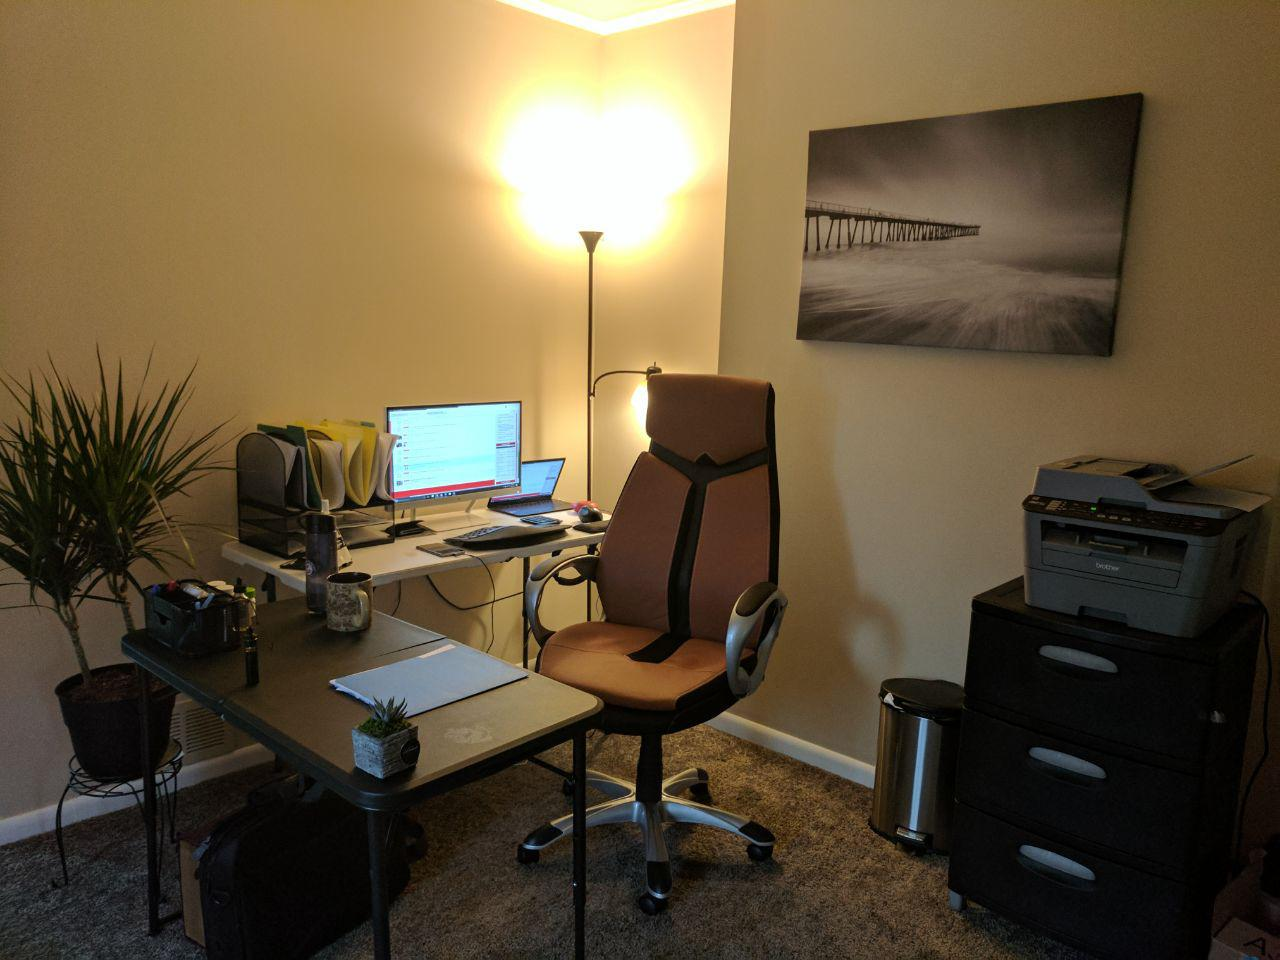Cellphone: (415, 542, 464, 559)
Chair (Generic): (541, 367, 810, 908)
Decoration (Picture): (779, 86, 1145, 361)
Decoration (Plant): (4, 345, 198, 779), (349, 690, 428, 781)
Desk (Generic): (119, 593, 607, 793), (223, 469, 651, 580)
External Numpad: (521, 512, 559, 524)
Keyboard (Ergonomic): (443, 520, 575, 550)
Lamp (Floor): (530, 159, 657, 315)
Laptop (Windows): (504, 459, 565, 514)
Monitor (Landscape): (384, 400, 522, 510)
Mouse (Ergonomic): (575, 502, 604, 524)
Mug: (324, 570, 374, 634)
Printer: (1006, 419, 1252, 637)
Storage Drawer: (944, 587, 1280, 960)
Trash Can: (867, 677, 957, 855)
Water Bottle: (301, 511, 338, 617)
